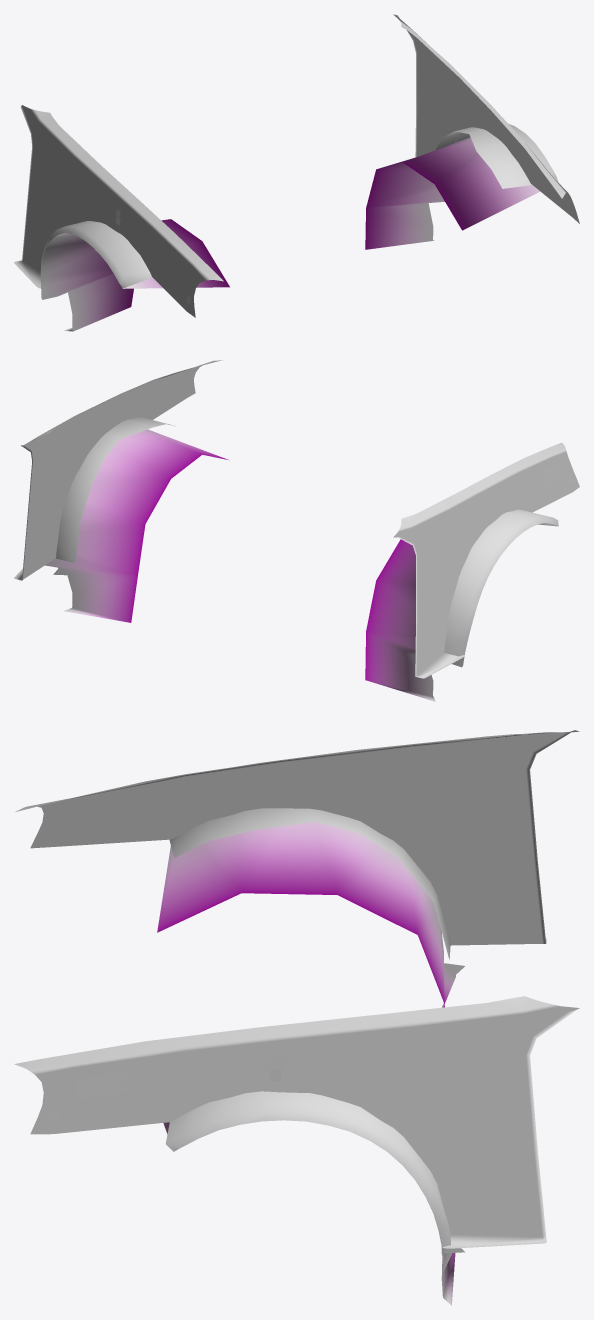
The model's file is Car_Nissan_SkylineGTRVspecR34_1999_FendersChassisF_SetA_AltC.fbx.
3 views of the same model, one above another, from view 1: azimuth 30°, elevation 25°; view 2: azimuth 150°, elevation 25°; view 3: azimuth 270°, elevation 25° (orthographic). The views are drawn at different scales.
Visible parts, largest first — view 1: FendersChassisF 6; view 2: FendersChassisF 6; view 3: FendersChassisF 6.
Part boxes in pixels (x1,y1,x2,y2): FendersChassisF 6: (14, 14, 579, 331); FendersChassisF 6: (14, 360, 579, 701); FendersChassisF 6: (14, 730, 579, 1305).
Size of the model in its own units: 1.77 by 0.7629 by 1.3.
